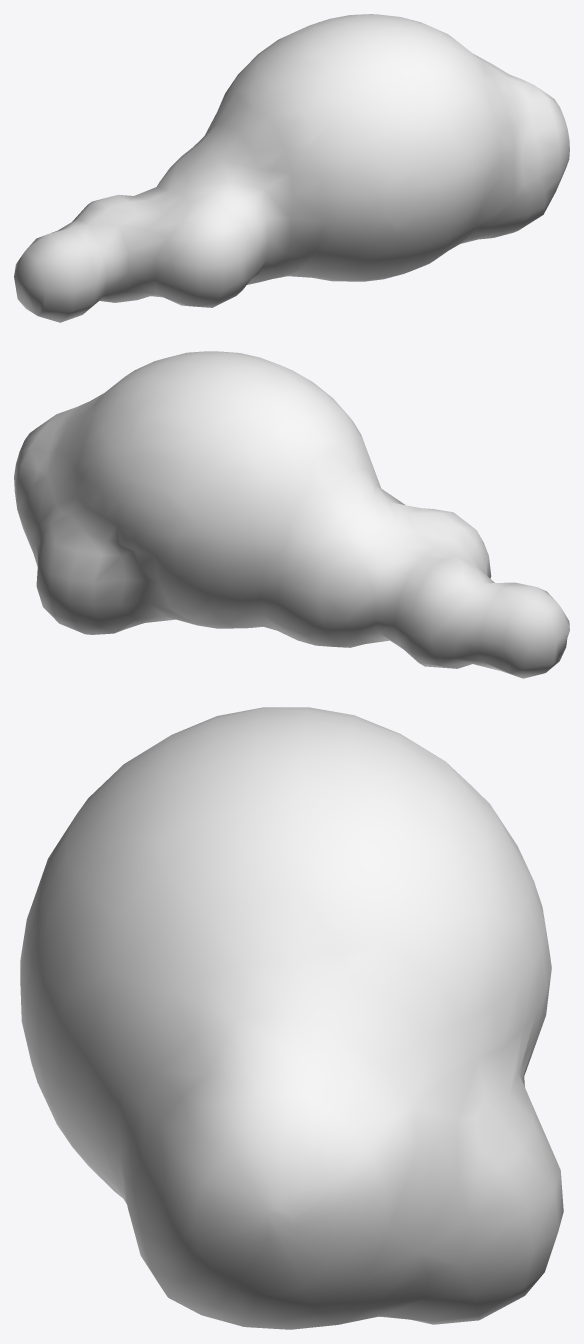
The model's file is Cloud_01.fbx.
3 views of the same model, one above another, from view 1: azimuth 30°, elevation 25°; view 2: azimuth 150°, elevation 25°; view 3: azimuth 270°, elevation 25° (orthographic). The views are drawn at different scales.
Visible parts, largest first — view 1: Cloud_01; view 2: Cloud_01; view 3: Cloud_01.
Boxes of the visible parts, <box> form: Cloud_01: <box>14,14,569,322</box>; Cloud_01: <box>14,351,569,678</box>; Cloud_01: <box>20,707,563,1329</box>.
Size of the model in its own units: 657 by 292 by 292.
